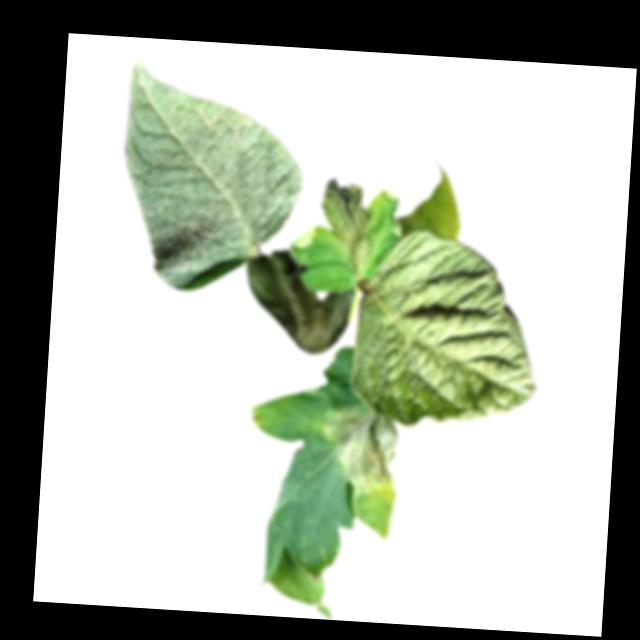Late_blight: (241, 246, 361, 355), (319, 405, 402, 497), (392, 155, 468, 240), (315, 176, 377, 278)
healthy: (116, 59, 310, 299), (348, 225, 546, 433)
